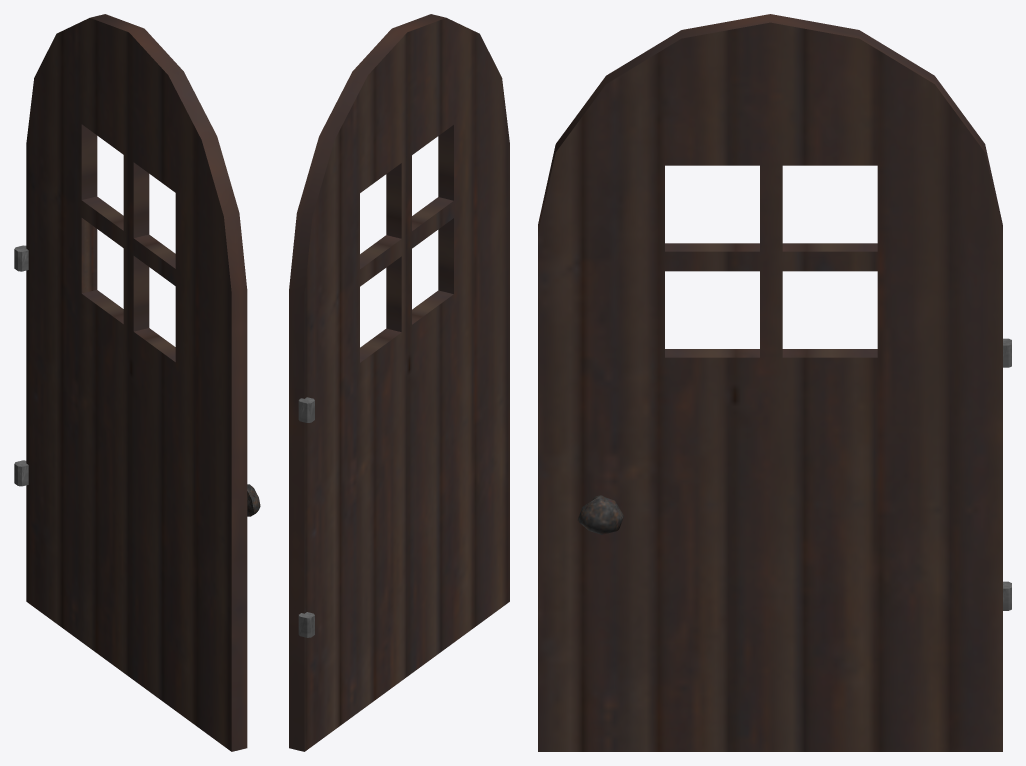
The model's file is Door.fbx.
3 views of the same model, side by side, from view 1: azimuth 30°, elevation 25°; view 2: azimuth 150°, elevation 25°; view 3: azimuth 270°, elevation 25° (orthographic). The views are drawn at different scales.
Parts seen in each view (by area): view 1: door; view 2: door; view 3: door.
Boxes of the visible parts, x1=… form: door: x1=14, y1=14, x2=260, y2=751; door: x1=289, y1=14, x2=509, y2=751; door: x1=538, y1=14, x2=1011, y2=751.
Bounding box in the file's own units: 0.2332 × 2.31 × 1.36.
